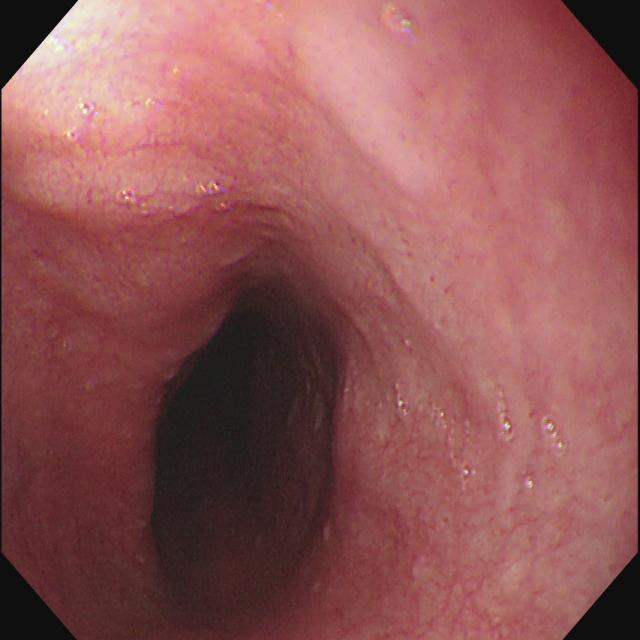E: (127, 259, 366, 636)
T: (393, 394, 567, 458), (67, 100, 99, 146), (197, 181, 233, 215), (114, 186, 151, 217)
